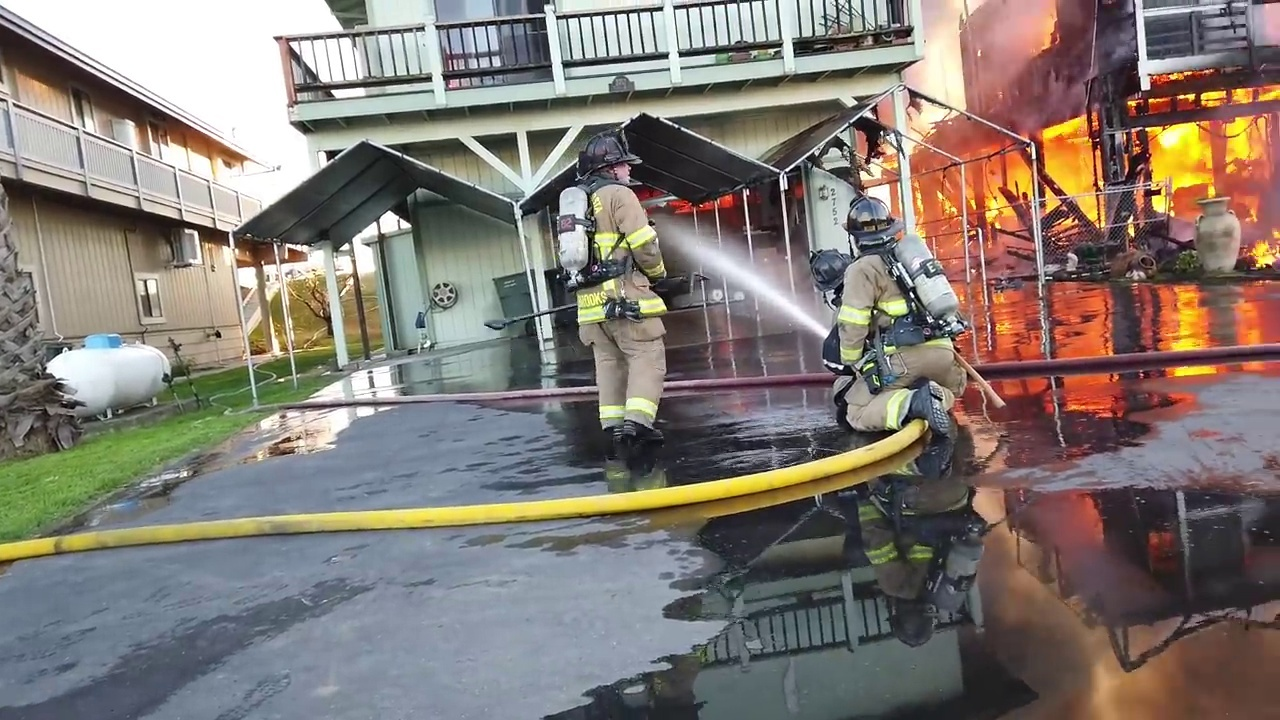fire: (891, 72, 1280, 277), (1033, 1, 1065, 49)
smoke: (897, 1, 1028, 132)
